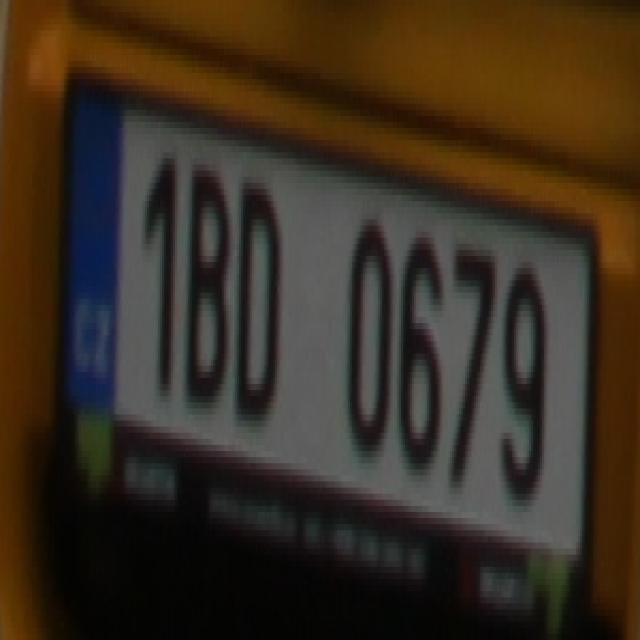0: (346, 213, 392, 457)
1: (141, 158, 173, 384)
6: (397, 226, 444, 470)
7: (444, 243, 491, 488)
9: (497, 262, 550, 500)
B: (181, 158, 226, 402)
D: (230, 165, 282, 426)
